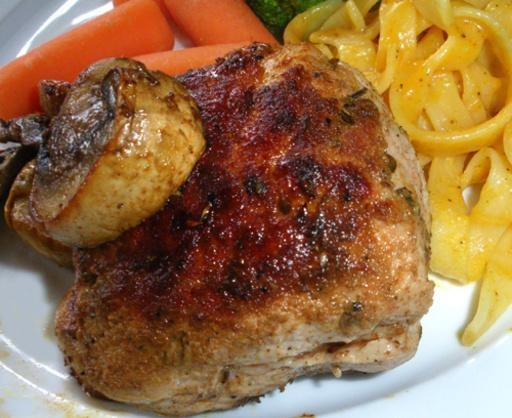background: (0, 0, 410, 273)
